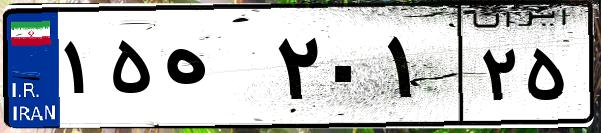0: (330, 28, 385, 110)
1: (385, 28, 445, 110), (57, 26, 110, 100)
2: (270, 28, 330, 110), (475, 38, 525, 113)
5: (525, 38, 570, 115), (110, 28, 158, 98)
ه: (158, 20, 270, 120)
